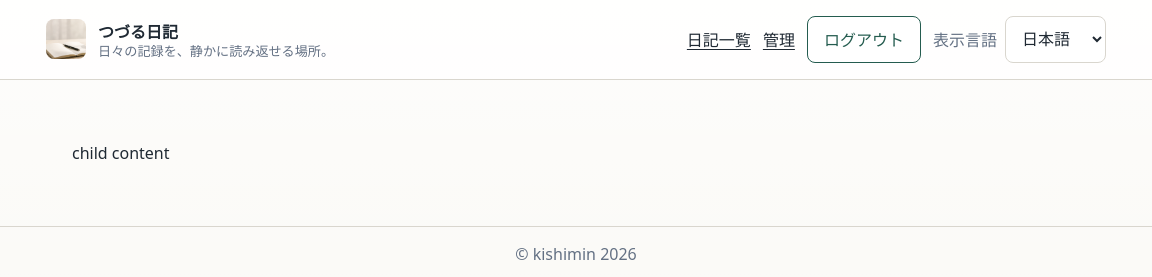
Test: AppProviders › clears the access token and shows login navigation when logout is clicked
This screenshot has width=1152, height=277.
Click the button "ログアウト": (864, 39) [807,16,921,63]
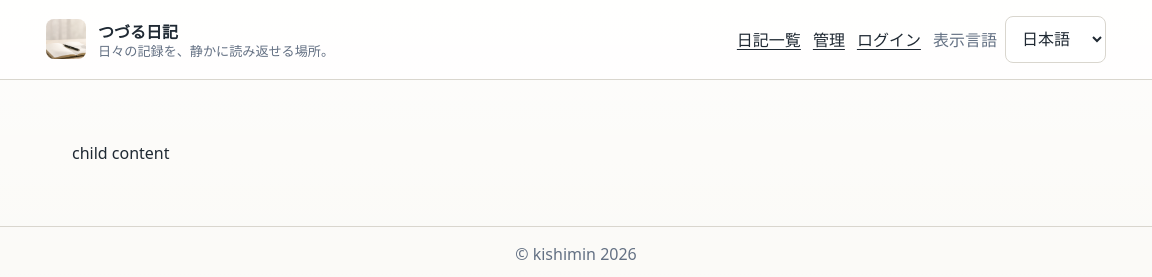
Now the link "ログイン" is shown, box [857,27,921,51]
